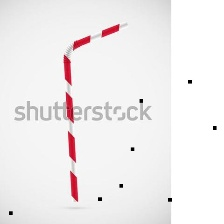drinking_straw: (57, 14, 133, 208)
